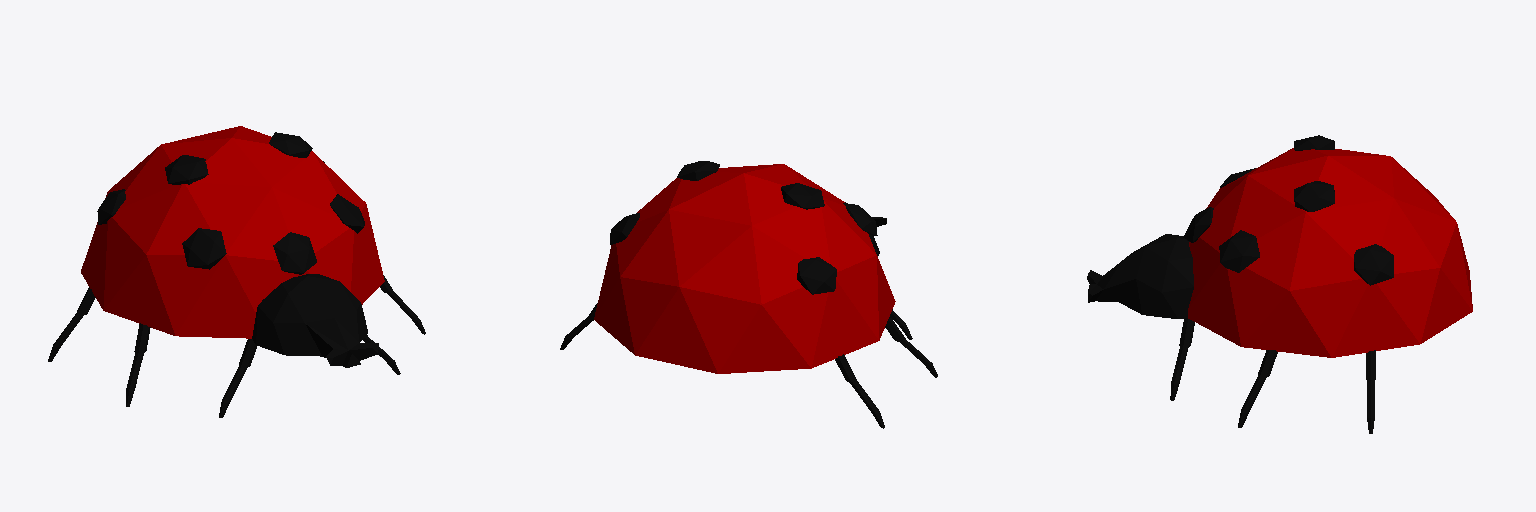
Rendered from NOVELO_LADYBUG.obj.
3 renders of one model, left to right at view 1: azimuth 30°, elevation 25°; view 2: azimuth 150°, elevation 25°; view 3: azimuth 270°, elevation 25°, orthographic.
Visible parts, largest first — view 1: Symmetry; view 2: Symmetry; view 3: Symmetry.
Boxes of the visible parts, box(x1,y1,x2,y2) form: Symmetry: box(48, 126, 425, 417); Symmetry: box(560, 161, 937, 428); Symmetry: box(1087, 135, 1472, 433).
Size of the model in its own units: 246 by 145 by 253.